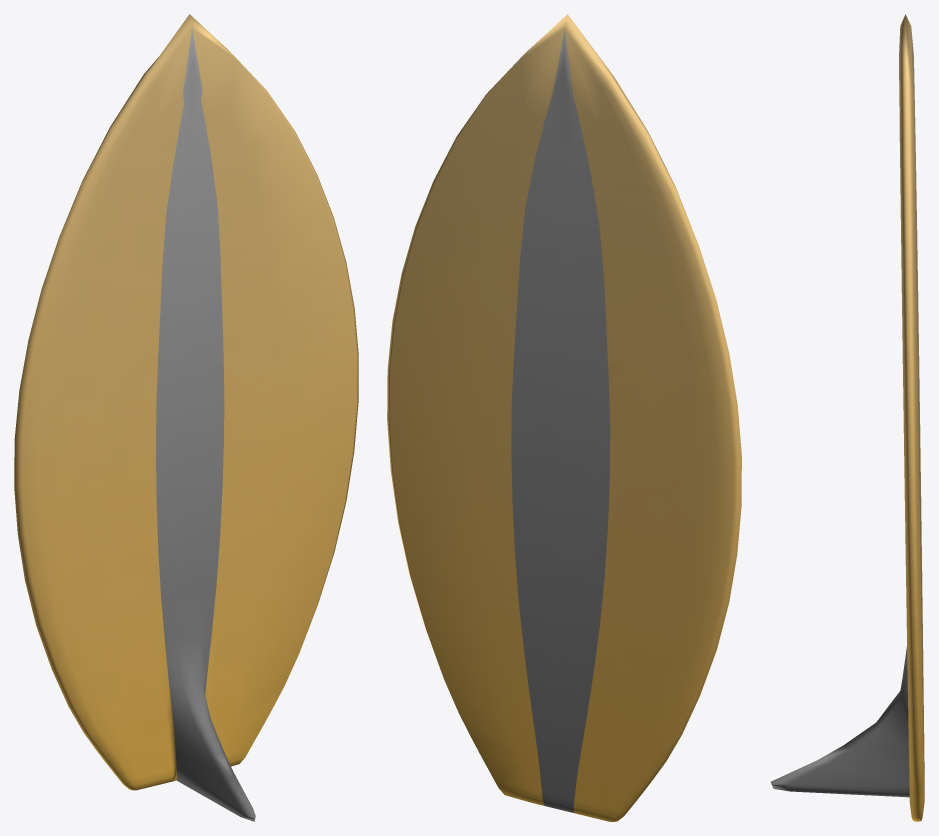
File: tabla4.fbx
3 renders of one model, left to right at view 1: azimuth 30°, elevation 25°; view 2: azimuth 150°, elevation 25°; view 3: azimuth 270°, elevation 25°, orthographic. The views are drawn at different scales.
Visible parts, largest first — view 1: tabla4; view 2: tabla4; view 3: tabla4.
Boxes of the visible parts, x1,y1,x2,y2 form: tabla4: [14, 14, 358, 821]; tabla4: [387, 14, 741, 821]; tabla4: [770, 14, 924, 821].
Size of the model in its own units: 81.87 by 174 by 31.13.
1 material, 1 textured.
